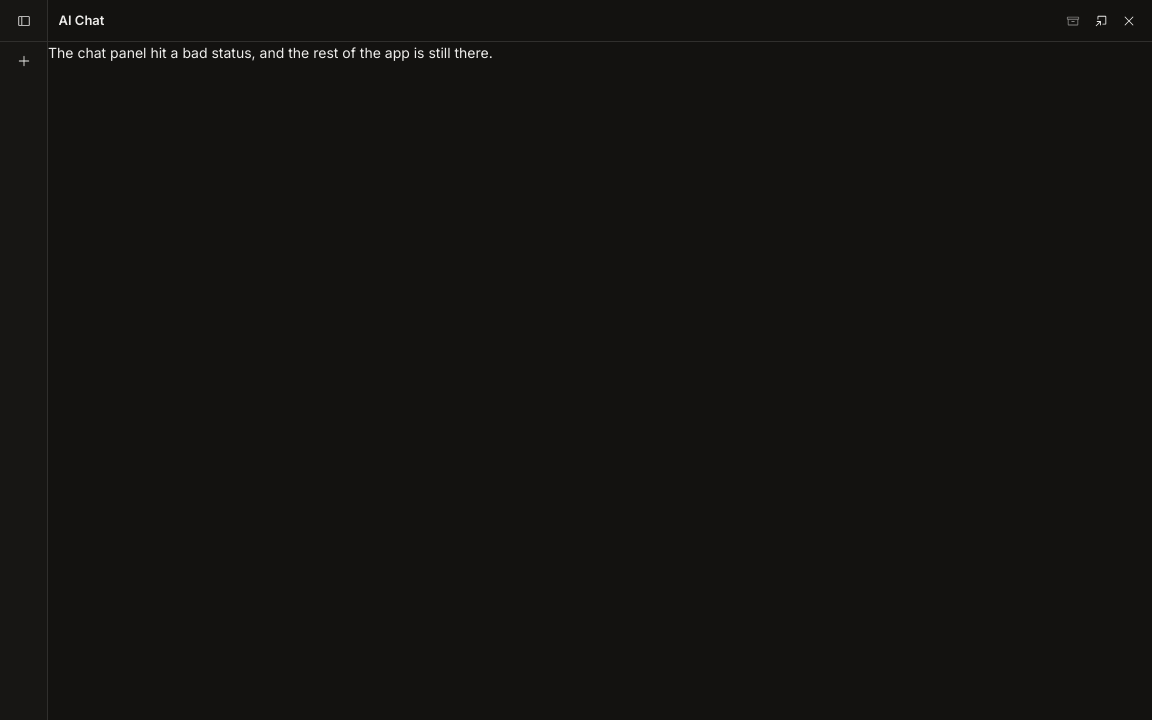
Test: AiWorkspace › allows a chat title to be renamed from the sidebar
Click the button named "Expand AI chat list" at [24, 21], box [11,8,36,33]
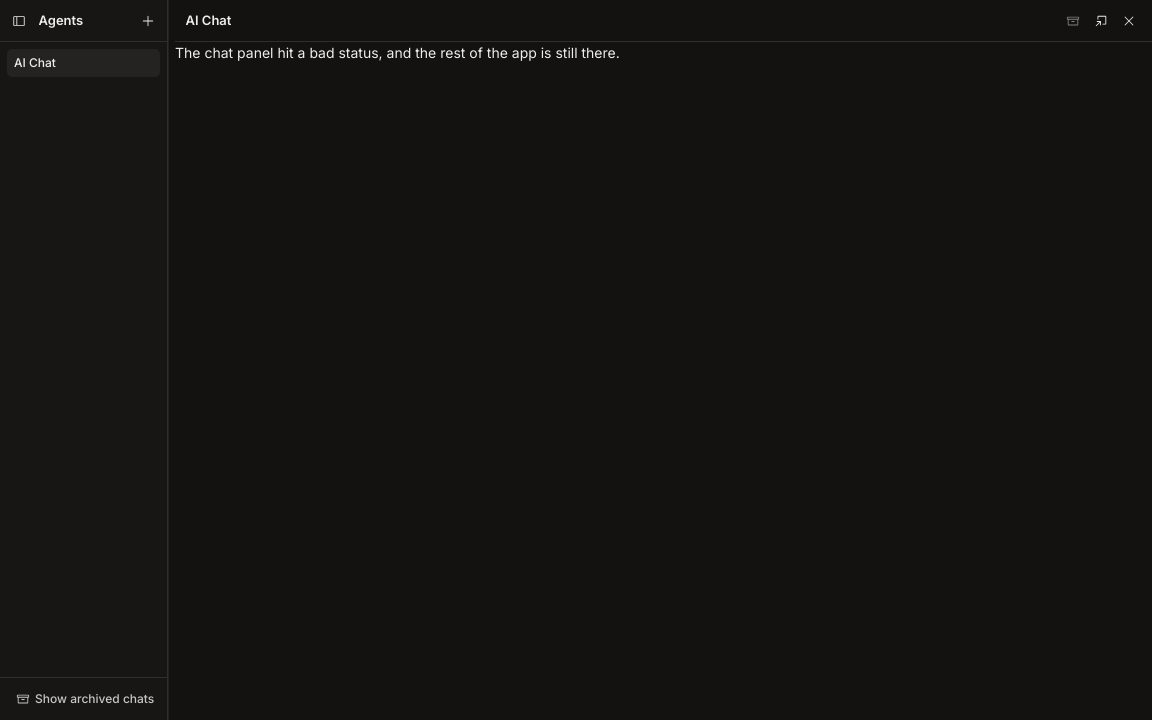
Double-click the button "AI Chat" at [84, 63], box [7,49,160,77]
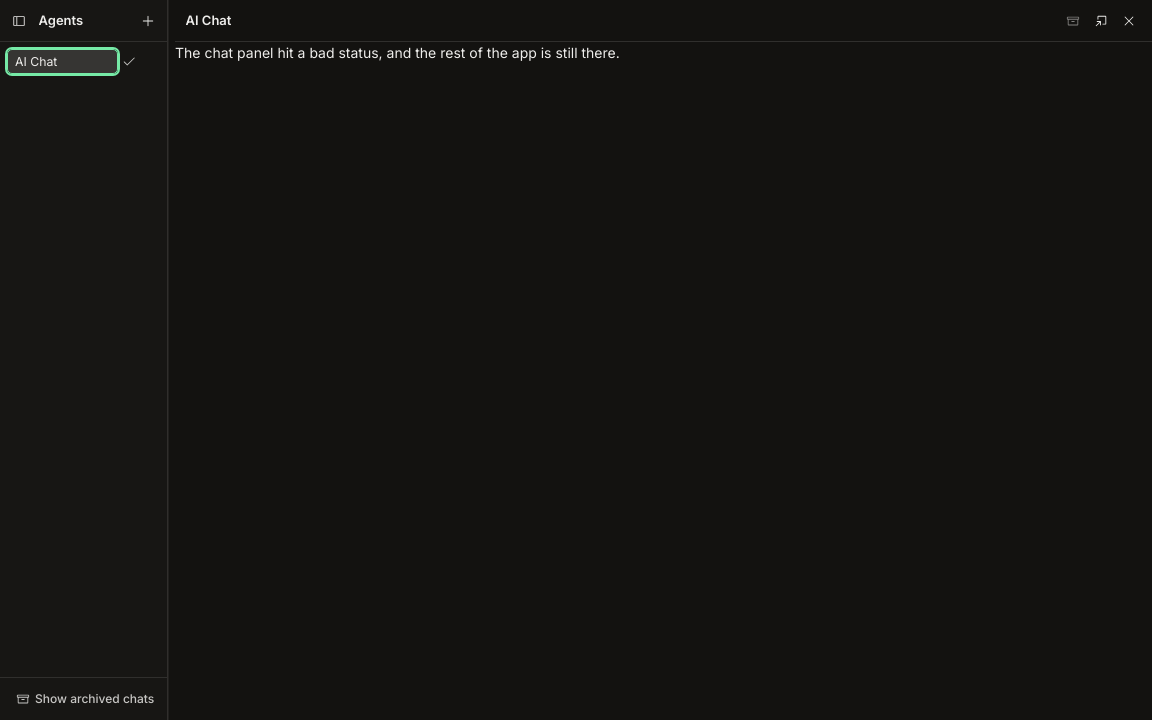
Replace the text in the field named "Rename chat" with "Sponsor Plan" at [62, 61], box [7,49,118,74]
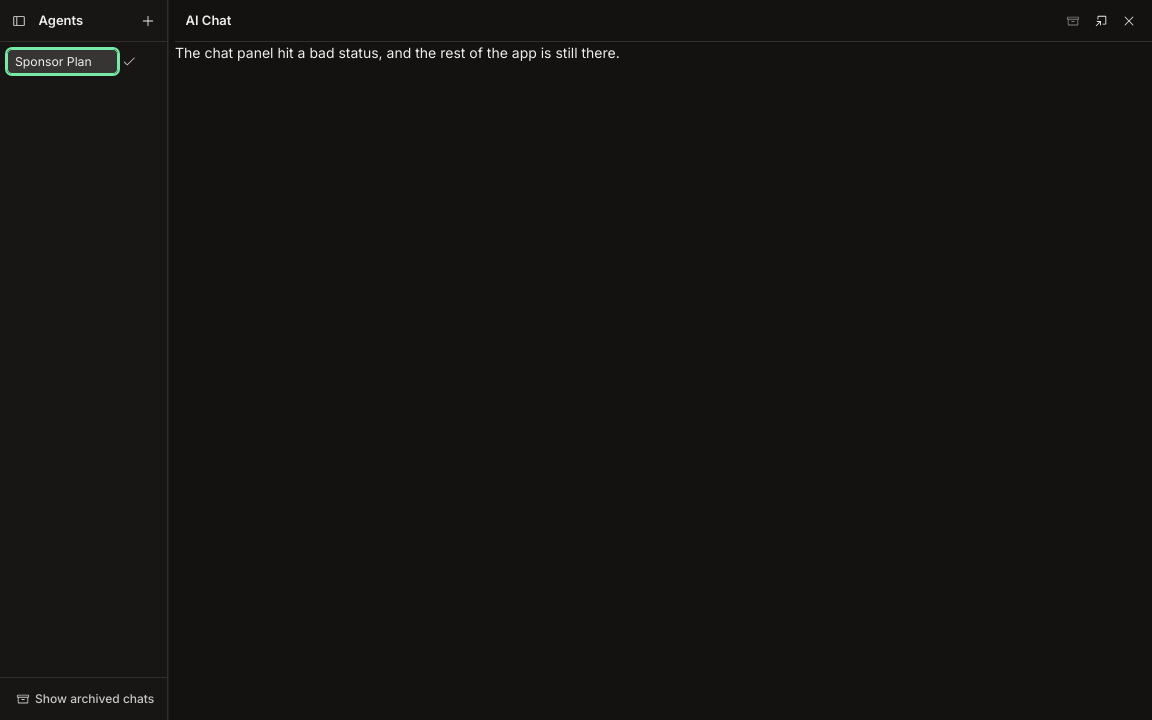
Press Enter in the field named "Rename chat", box [7,49,118,74]
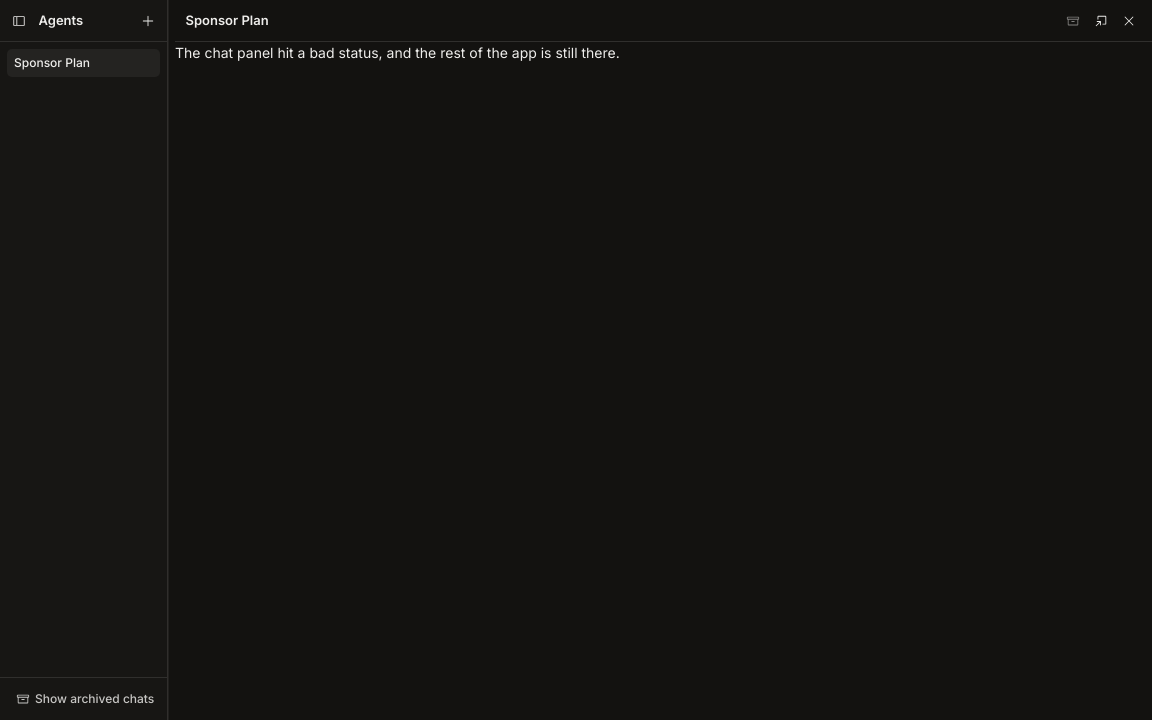
Result: the text "Sponsor Plan" below "Agents" is shown at [14,55,90,70]
